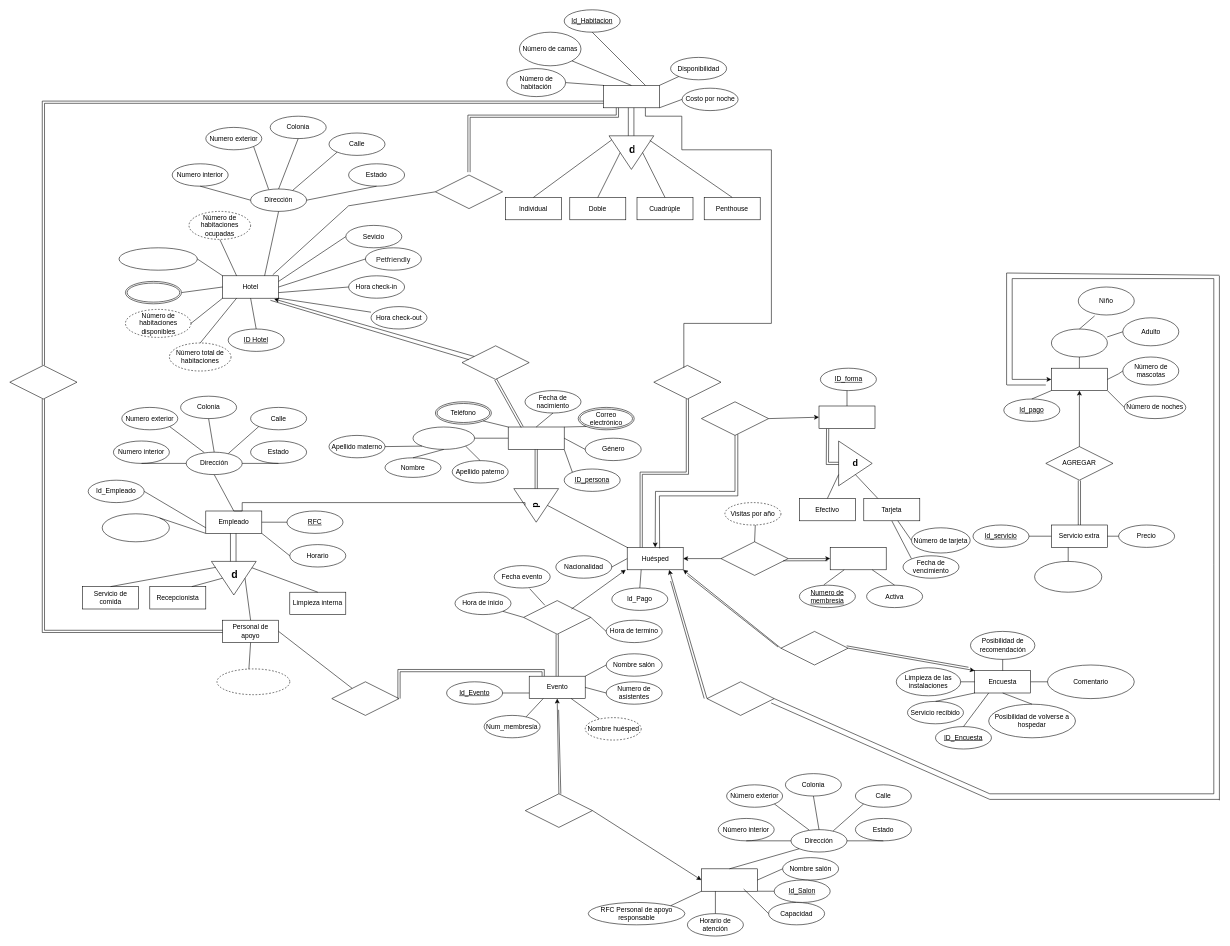
This 1230x946 diagram has some shape labels left out. The shapes that lost their labels are listed below. From the top down, each one's centre as x and y in pixels, then its label:
At pixel 631 96: "Habitación".
At pixel 469 191: "DISPONER".
At pixel 157 258: "Nombre establecimiento".
At pixel 153 292: "Telefono".
At pixel 495 362: "TENER".
At pixel 1079 342: "Número de huéspedes".
At pixel 43 382: "Ser Responsable".
At pixel 687 382: "RENTAR".
At pixel 1079 379: "Pago".
At pixel 735 418: "ELEGIR".
At pixel 846 416: "Forma de pago".
At pixel 443 437: "Nombre Completo".
At pixel 536 437: "Persona".
At pixel 135 527: "Fecha contratación".
At pixel 754 558: "OBTENER".
At pixel 858 558: "Membresia".
At pixel 1068 576: "Número de platos".
At pixel 557 617: "RESERVAR".
At pixel 814 648: "RESPONDER".
At pixel 253 681: "Número de habitaciones a cargo".
At pixel 365 698: "ATENDER".
At pixel 740 698: "REALIZAR".
At pixel 558 810: "VALIDAR".
At pixel 729 879: "Salon".
